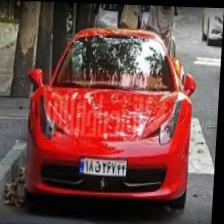plate: (80, 156, 128, 174)
